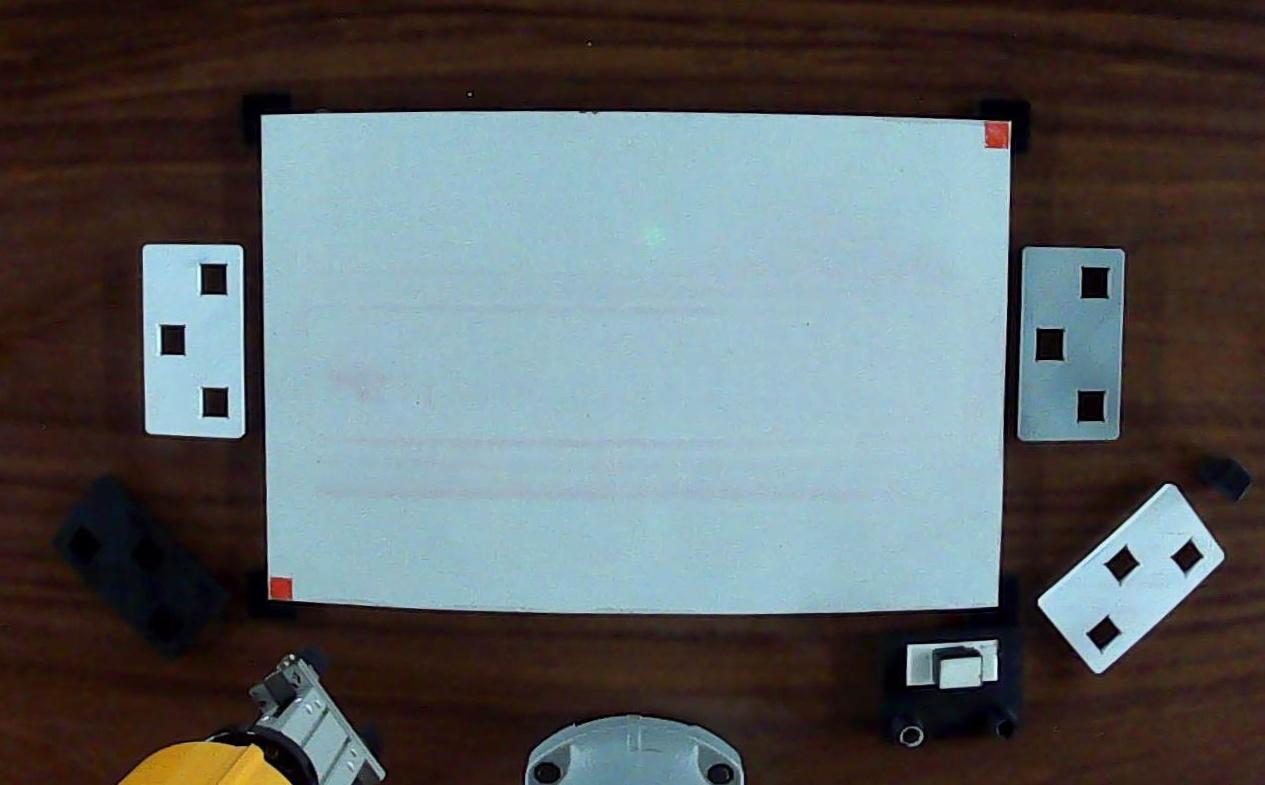pecaPreta: (1205, 449, 1253, 502)
